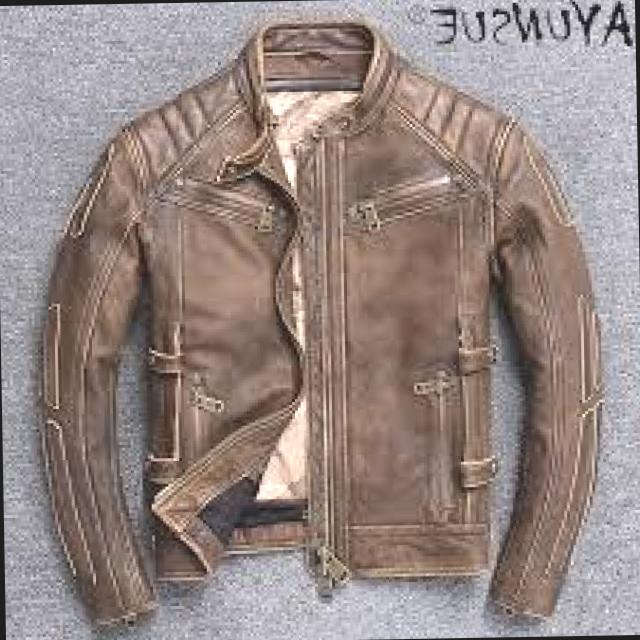jacket: (26, 23, 608, 620)
